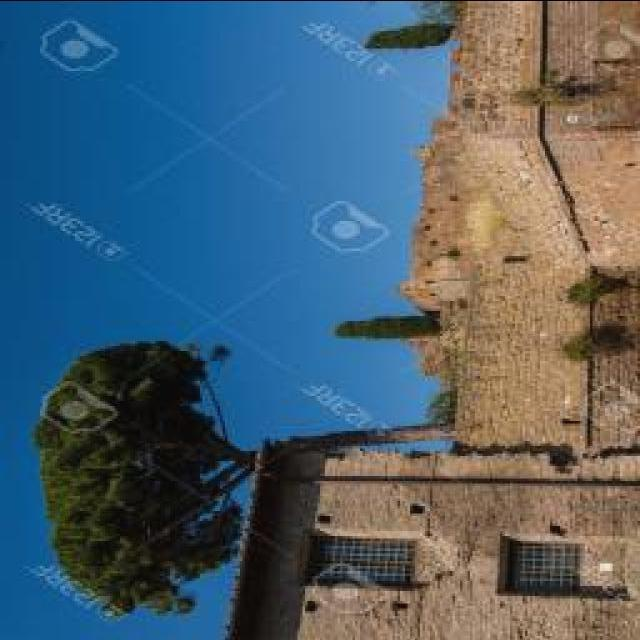Crack: (534, 2, 600, 450)
